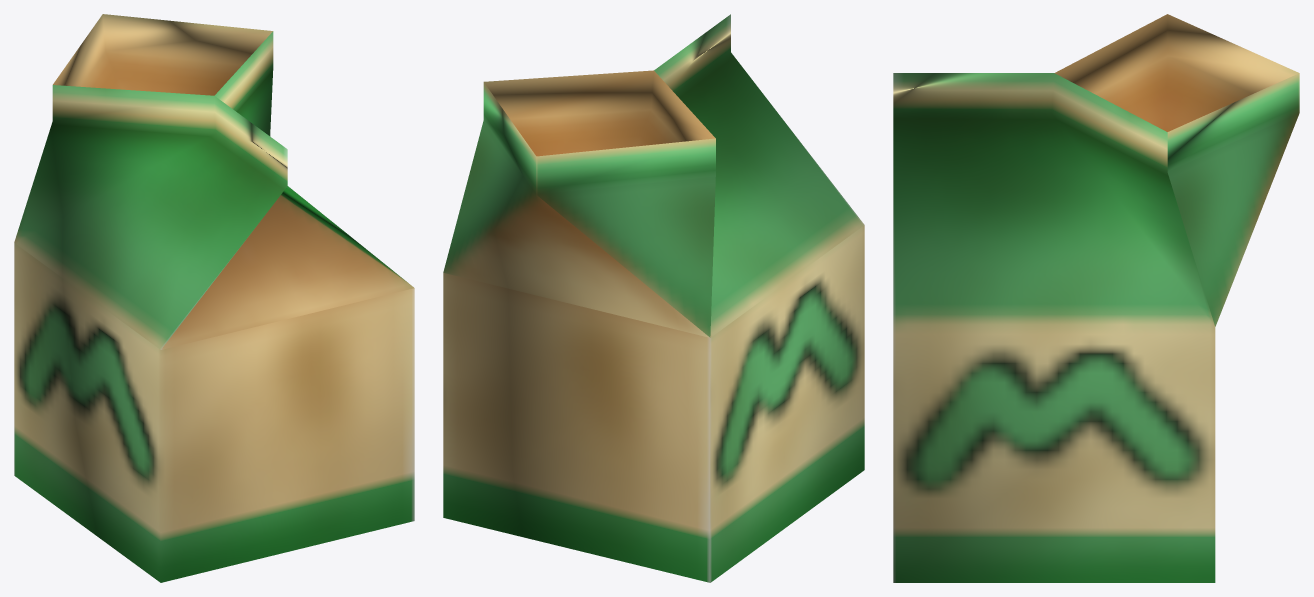
File: a_SWAfood05.glb
3 renders of one model, left to right at view 1: azimuth 30°, elevation 25°; view 2: azimuth 150°, elevation 25°; view 3: azimuth 270°, elevation 25°, orthographic. The views are drawn at different scales.
Visible parts, largest first — view 1: a_SWAfood05; view 2: a_SWAfood05; view 3: a_SWAfood05.
Part boxes in pixels (x1=…): a_SWAfood05: x1=14, y1=14, x2=414, y2=582; a_SWAfood05: x1=443, y1=14, x2=864, y2=582; a_SWAfood05: x1=893, y1=14, x2=1299, y2=582.
Bounding box in the file's own units: 0.0967 × 0.1464 × 0.122.
Materials: 1 (1 with a texture image).
